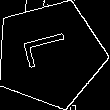L_E: (21, 32, 80, 76)
